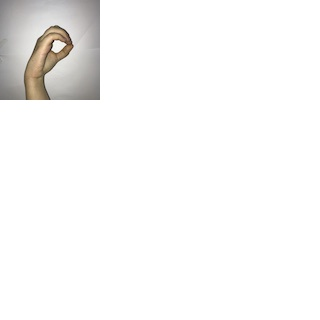rock: (20, 21, 75, 83)
